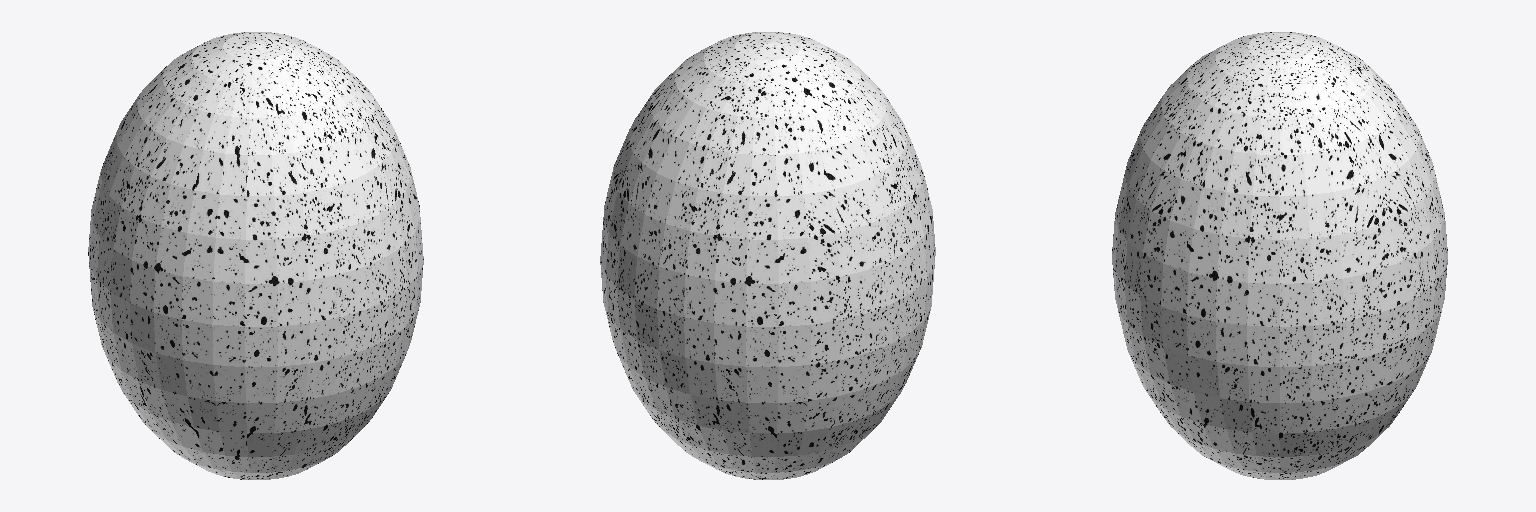
3 views of the same model, side by side, from view 1: azimuth 30°, elevation 25°; view 2: azimuth 150°, elevation 25°; view 3: azimuth 270°, elevation 25° (orthographic).
Visible parts, largest first — view 1: Sphere; view 2: Sphere; view 3: Sphere.
Boxes of the visible parts, x1=… form: Sphere: x1=88, y1=32, x2=423, y2=479; Sphere: x1=600, y1=32, x2=935, y2=479; Sphere: x1=1112, y1=32, x2=1447, y2=479.
Size of the model in its own units: 2 by 2.8 by 2.
1 materials, 1 textured.